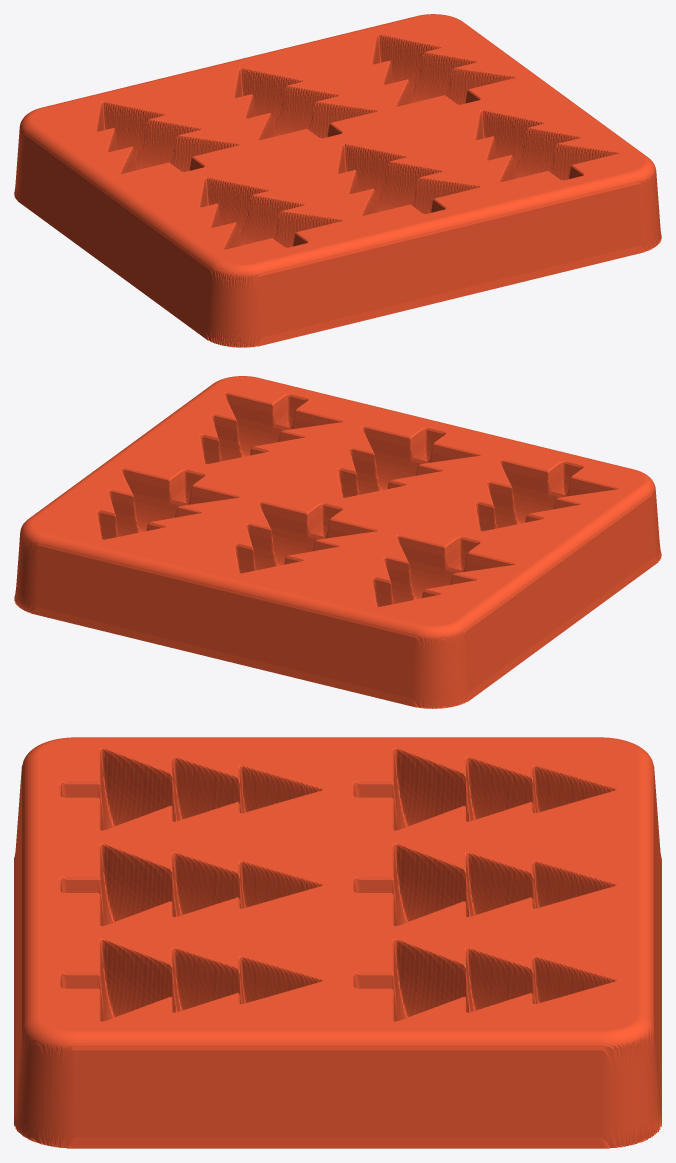
File: mold.glb
3 renders of one model, top to bottom at view 1: azimuth 30°, elevation 25°; view 2: azimuth 150°, elevation 25°; view 3: azimuth 270°, elevation 25°, orthographic. The views are drawn at different scales.
Visible parts, largest first — view 1: geometry_0; view 2: geometry_0; view 3: geometry_0.
Boxes of the visible parts, left/top/right/bottom form: geometry_0: left=14, top=14, right=661, bottom=347; geometry_0: left=14, top=376, right=661, bottom=708; geometry_0: left=14, top=737, right=661, bottom=1148.
Bounding box in the file's own units: 0.1089 × 0.0175 × 0.0955.
